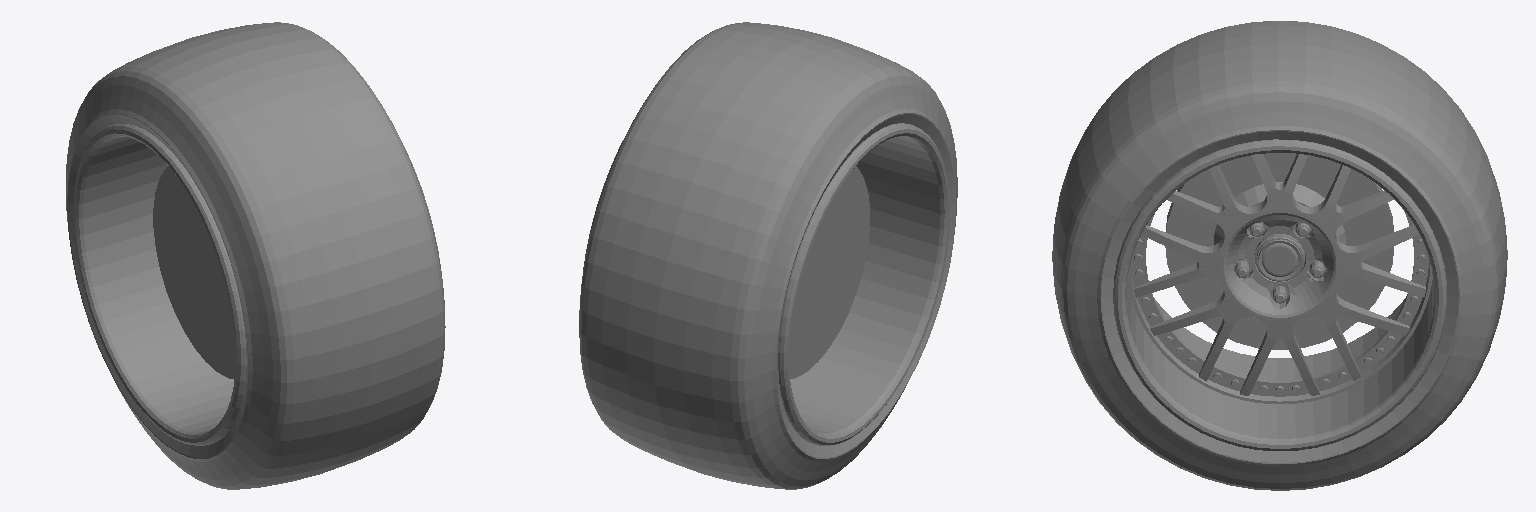
Rendered from Llanta_delantera_Izq.obj.
3 views of the same model, side by side, from view 1: azimuth 30°, elevation 25°; view 2: azimuth 150°, elevation 25°; view 3: azimuth 270°, elevation 25° (orthographic).
Visible parts, largest first — view 1: Llanta_Delantera_Izq; view 2: Llanta_Delantera_Izq; view 3: Llanta_Delantera_Izq.
Boxes of the visible parts, x1=… form: Llanta_Delantera_Izq: x1=66, y1=22, x2=445, y2=489; Llanta_Delantera_Izq: x1=579, y1=22, x2=957, y2=489; Llanta_Delantera_Izq: x1=1052, y1=21, x2=1507, y2=490.
Bounding box in the file's own units: 1.11 × 2 × 2.